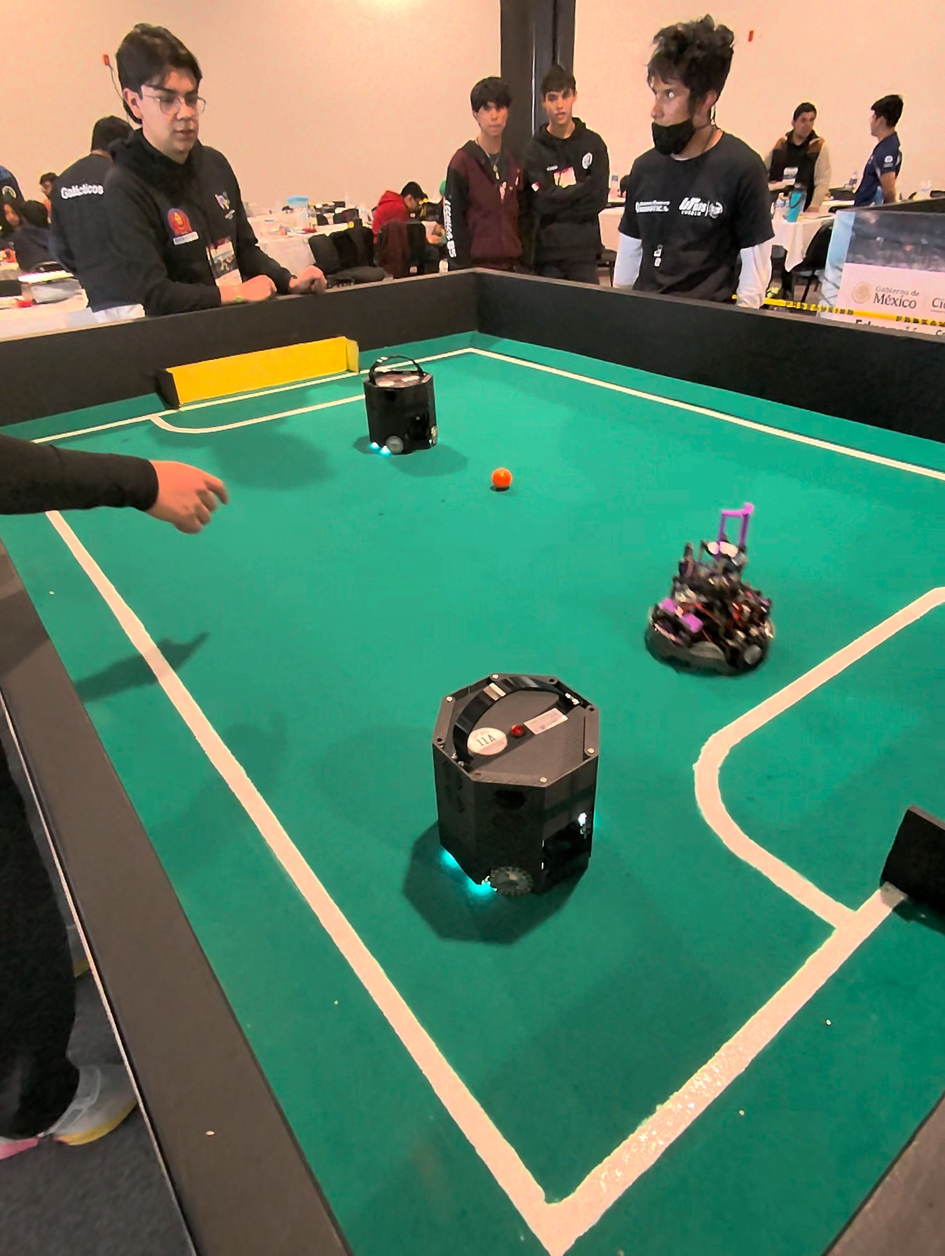Robot: (426, 642, 598, 945), (649, 516, 777, 681), (359, 348, 448, 477)
pelota: (493, 470, 516, 493)
